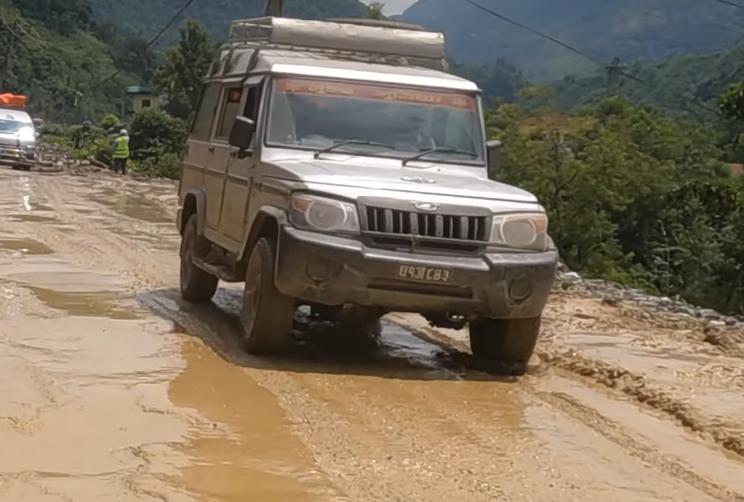SUV: (170, 16, 564, 376)
micro_bus: (0, 99, 40, 174)
